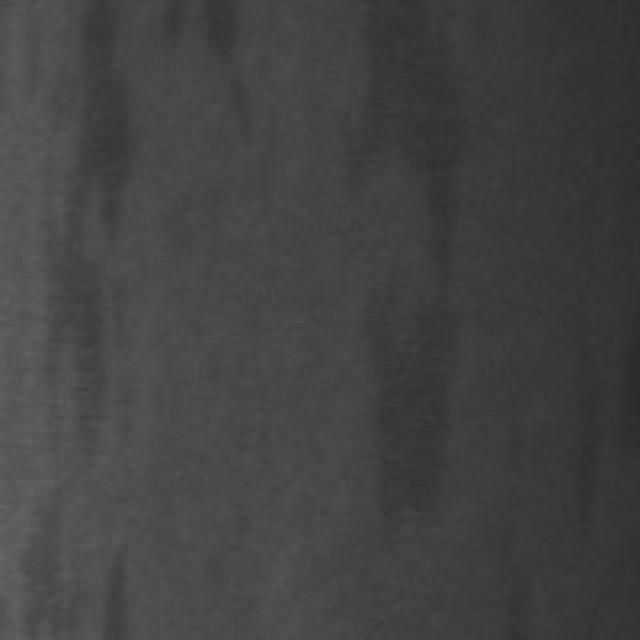inclusion: (333, 3, 454, 531), (38, 6, 122, 452), (550, 333, 614, 557), (189, 0, 262, 144), (86, 538, 138, 636)
